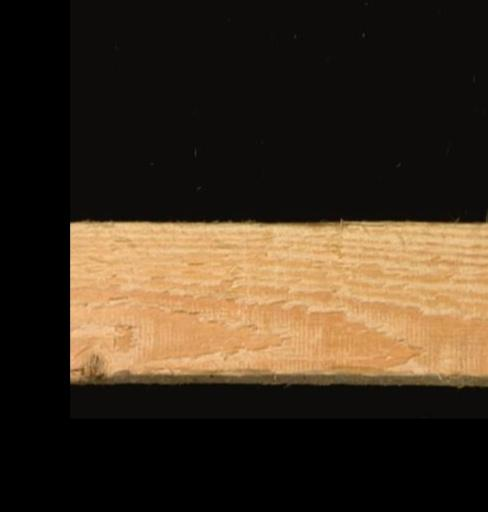edge_knot: (70, 348, 107, 381)
